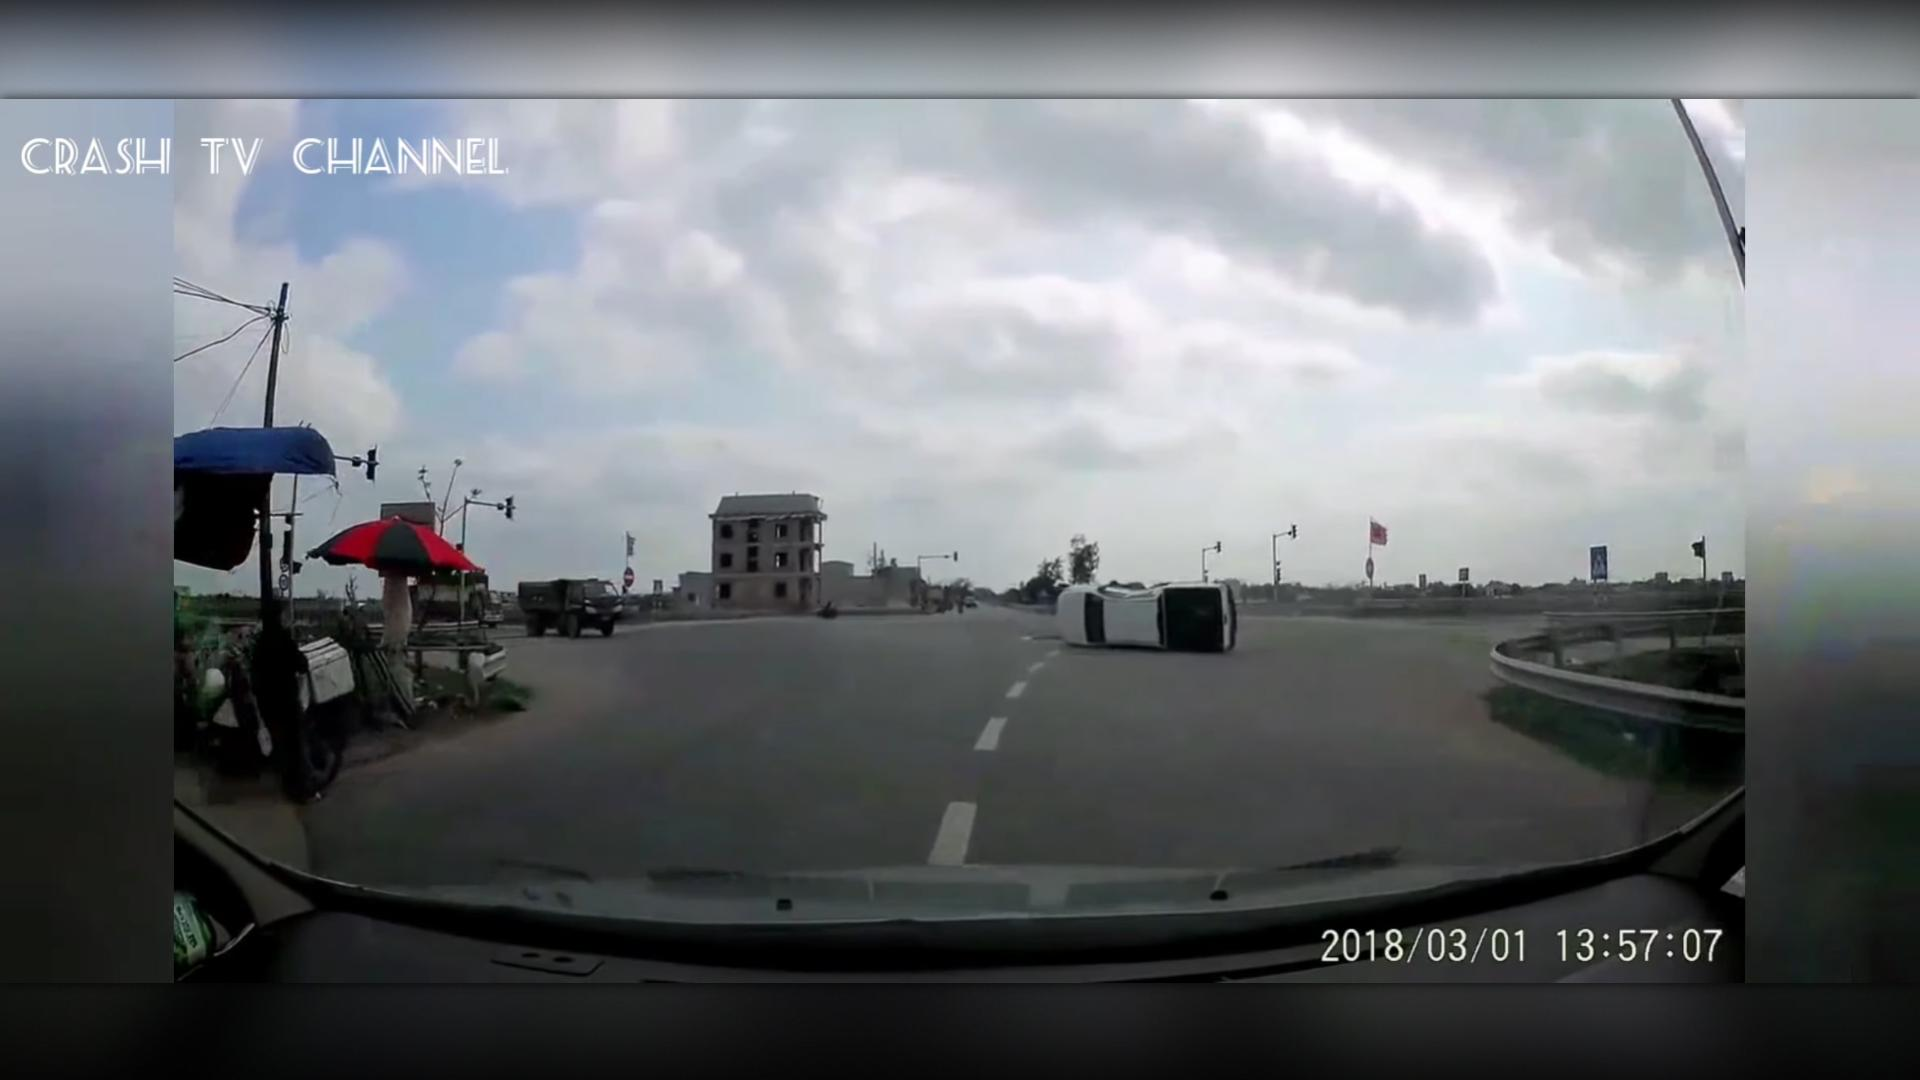accident: (1050, 581, 1243, 657)
truck: (512, 570, 631, 643)
